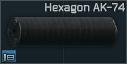AK-74 Hexagon 5.45x39 sound suppressor: (0, 0, 127, 64)
